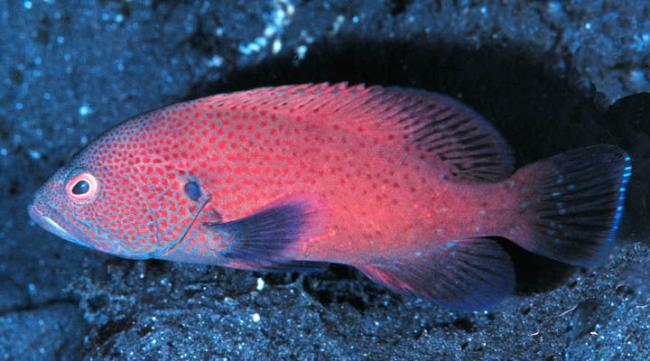fish: (28, 82, 632, 312)
